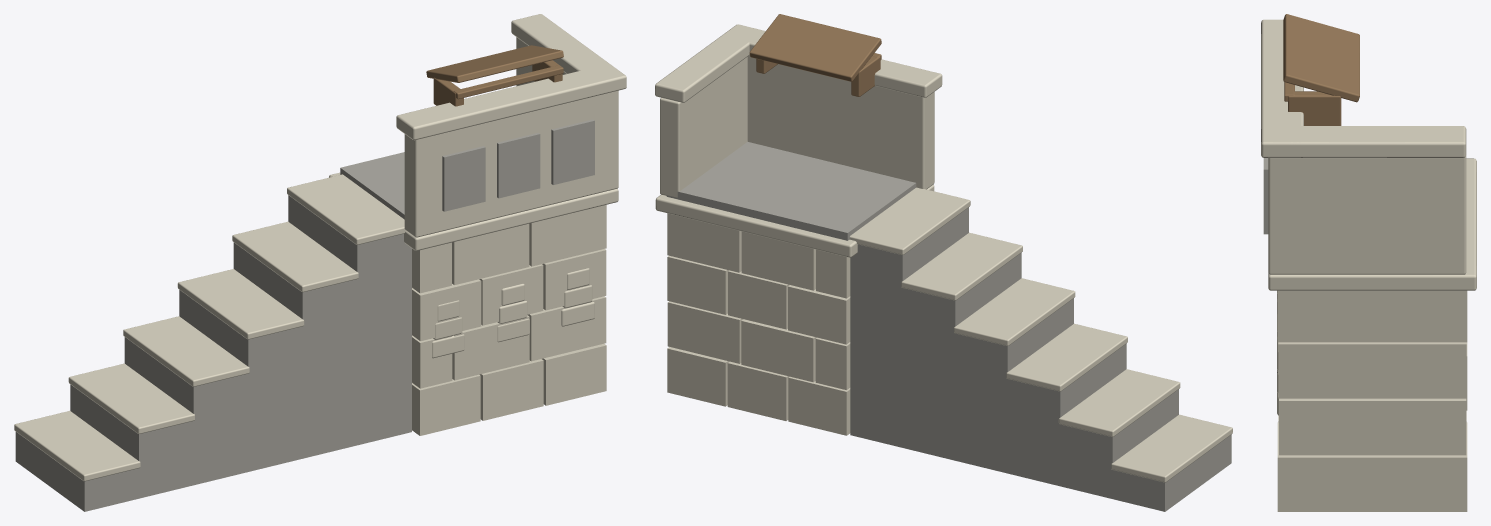
The model's file is readers-pulpit.glb.
3 views of the same model, side by side, from view 1: azimuth 30°, elevation 25°; view 2: azimuth 150°, elevation 25°; view 3: azimuth 270°, elevation 25° (orthographic). The views are drawn at different scales.
Visible parts, largest first — view 1: readers-pulpit; view 2: readers-pulpit; view 3: readers-pulpit.
Boxes of the visible parts, x1,y1,x2,y2 form: readers-pulpit: (14,14,626,511); readers-pulpit: (655,14,1232,511); readers-pulpit: (1261,14,1476,511).
Size of the model in its own units: 4.08 by 2.57 by 1.21.
